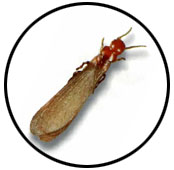flying termite: (27, 27, 150, 145)
